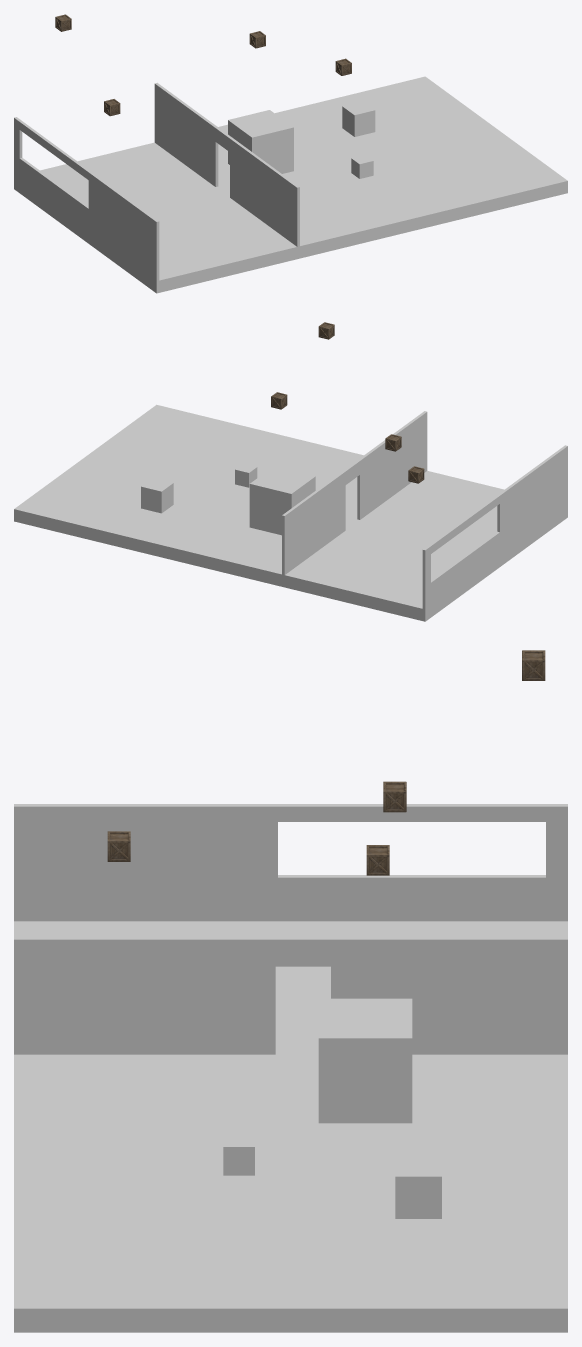
File: startingRoom.glb
The picture shows the model from 3 angles, top to bottom: view 1: azimuth 30°, elevation 25°; view 2: azimuth 150°, elevation 25°; view 3: azimuth 270°, elevation 25°; orthographic projection. The views are drawn at different scales.
Visible parts, largest first — view 1: Floor, Wall door, Wall glass, Cube, Cube.001, Cube.002; view 2: Floor, Wall door, Wall glass, Cube, Cube.001, Cube.002; view 3: Floor, Wall door, Wall glass, Cube, Cube.001, Cube.002.
Boxes of the visible parts, x1,y1,x2,y2 form: Floor: (14, 76, 567, 293); Wall door: (154, 82, 299, 246); Wall glass: (14, 117, 159, 280); Cube: (228, 110, 293, 173); Cube.001: (342, 101, 375, 136); Cube.002: (351, 155, 373, 178); Floor: (14, 404, 567, 621); Wall door: (282, 411, 427, 574); Wall glass: (422, 445, 567, 609); Cube: (249, 466, 315, 535); Cube.001: (141, 478, 173, 513); Cube.002: (235, 463, 257, 487); Floor: (14, 921, 567, 1332); Wall door: (14, 937, 567, 1054); Wall glass: (14, 804, 567, 921); Cube: (318, 998, 412, 1123); Cube.001: (395, 1157, 441, 1218); Cube.002: (223, 1133, 254, 1175).
Bounding box in the file's own units: 19.69 × 7.68 × 11.83.
Materials: 4 (4 with a texture image).
